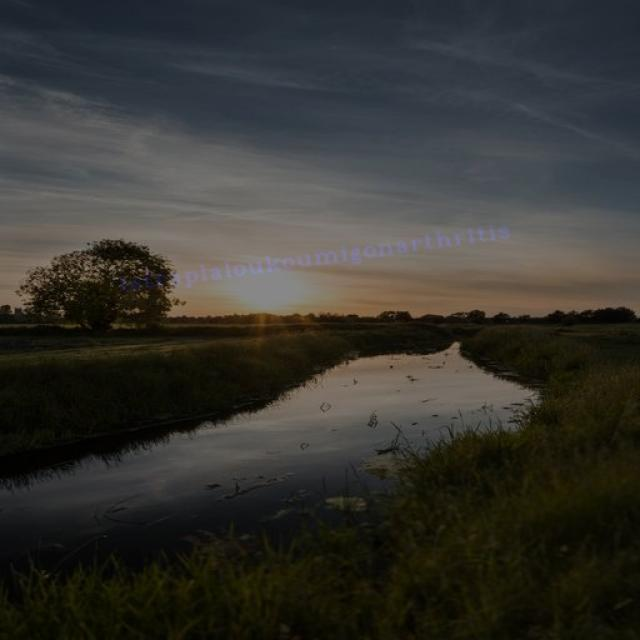watermark: (113, 220, 511, 294)
